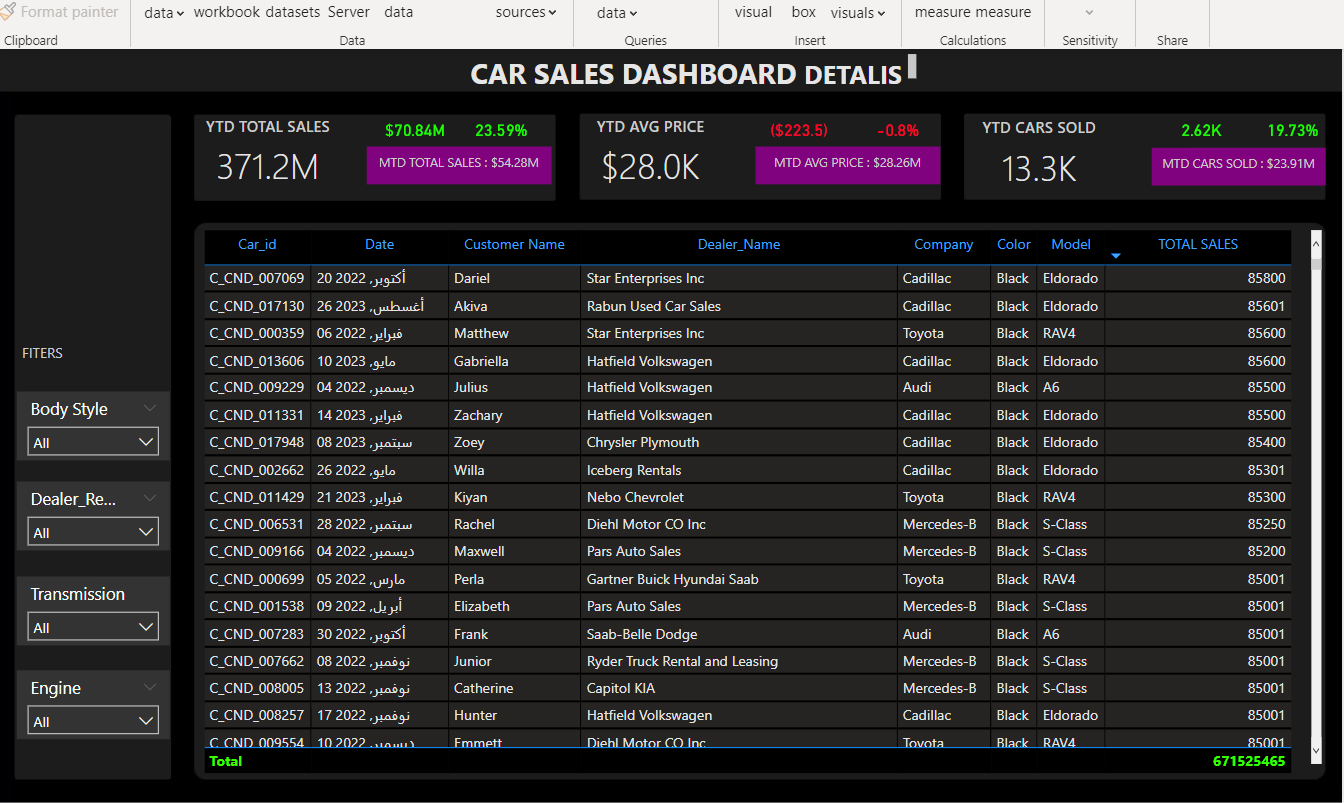

What the dashboard file says about the page in this screenshot:
{"tool":"powerbi","page":{"name":"DETALIS","canvas":[1280,720],"ordinal":1},"visuals":[{"type":"card","title":"YTD TOTAL SALES","fields":{"Values":["car_data.YTD"]},"box":[163.3,63.1,188,76.8],"z":0},{"type":"card","fields":{"Values":["car_data.SALES DIFFRENC"]},"box":[349.8,63.1,94.7,30.2],"z":1000},{"type":"card","fields":{"Values":["car_data.YOY SALES GROWTH"]},"box":[432.2,63.1,94.7,30.2],"z":2000},{"type":"card","fields":{"Values":["car_data.MTD KPI"]},"box":[351.2,93.3,175.6,35.7],"z":3000},{"type":"card","title":"YTD AVG PRICE","fields":{"Values":["car_data.YTD AVG PRICE"]},"box":[526.8,63.1,188,76.8],"z":4000},{"type":"card","fields":{"Values":["car_data.AVRG DIFF PRICE"]},"box":[714.8,63.1,94.7,30.2],"z":5000},{"type":"card","fields":{"Values":["car_data.YOY AVG PRICE GROWTH"]},"box":[809.4,64.5,94.7,28.8],"z":6000},{"type":"card","fields":{"Values":["car_data.MTD AVG PRICE KPI"]},"box":[721.6,93.3,175.6,35.7],"z":7000},{"type":"card","title":"YTD CARS SOLD","fields":{"Values":["car_data.YTD CARS SOLD"]},"box":[897.3,64.3,188,77.4],"z":8000},{"type":"card","fields":{"Values":["car_data.CARS SOLD DIIF"]},"box":[1098.4,63.1,95.2,30.9],"z":9000},{"type":"card","fields":{"Values":["car_data.YOY CARS SOLD GROTH"]},"box":[1185.3,63.1,95.2,30.9],"z":10000},{"type":"card","fields":{"Values":["car_data.MTD CARS SOLD KPI"]},"box":[1098.4,94,165.4,35.7],"z":11000},{"type":"textbox","box":[439,0,440.4,38.4],"z":12000},{"type":"slicer","fields":{"Values":["car_data.Body Style"]},"box":[17.8,326.5,145.4,65.9],"z":13000},{"type":"slicer","fields":{"Values":["car_data.Dealer_Region"]},"box":[17.8,411.6,145.4,65.9],"z":14000},{"type":"slicer","fields":{"Values":["car_data.Transmission"]},"box":[17.8,502.1,145.4,65.9],"z":15000},{"type":"slicer","fields":{"Values":["car_data.Engine"]},"box":[17.8,591.3,145.4,65.9],"z":16000},{"type":"textbox","box":[17.8,274.4,59,32.9],"z":17000},{"type":"tableEx","fields":{"Values":["car_data.Car_id","car_data.Date","car_data.Customer Name","car_data.Dealer_Name","car_data.Company","car_data.Color","car_data.Model","Sum(car_data.Price ($))"]},"box":[190.7,167.4,1074.2,526.8],"z":18000}]}

Visuals, with their boxes on the page's 1280x720 design canvas (x1, y1, x2, y2). These are canvas units, not pixel positions in the 1344x803 screenshot, which may show the page scaled, cropped or inside an application window:
"YTD TOTAL SALES" card: bbox=[163, 63, 351, 140]
card - car_data.SALES DIFFRENC: bbox=[350, 63, 444, 93]
card - car_data.YOY SALES GROWTH: bbox=[432, 63, 527, 93]
card - car_data.MTD KPI: bbox=[351, 93, 527, 129]
"YTD AVG PRICE" card: bbox=[527, 63, 715, 140]
card - car_data.AVRG DIFF PRICE: bbox=[715, 63, 810, 93]
card - car_data.YOY AVG PRICE GROWTH: bbox=[809, 64, 904, 93]
card - car_data.MTD AVG PRICE KPI: bbox=[722, 93, 897, 129]
"YTD CARS SOLD" card: bbox=[897, 64, 1085, 142]
card - car_data.CARS SOLD DIIF: bbox=[1098, 63, 1194, 94]
card - car_data.YOY CARS SOLD GROTH: bbox=[1185, 63, 1280, 94]
card - car_data.MTD CARS SOLD KPI: bbox=[1098, 94, 1264, 130]
textbox: bbox=[439, 0, 879, 38]
slicer - car_data.Body Style: bbox=[18, 326, 163, 392]
slicer - car_data.Dealer_Region: bbox=[18, 412, 163, 478]
slicer - car_data.Transmission: bbox=[18, 502, 163, 568]
slicer - car_data.Engine: bbox=[18, 591, 163, 657]
textbox: bbox=[18, 274, 77, 307]
tableEx - car_data.Car_id x car_data.Date: bbox=[191, 167, 1265, 694]
